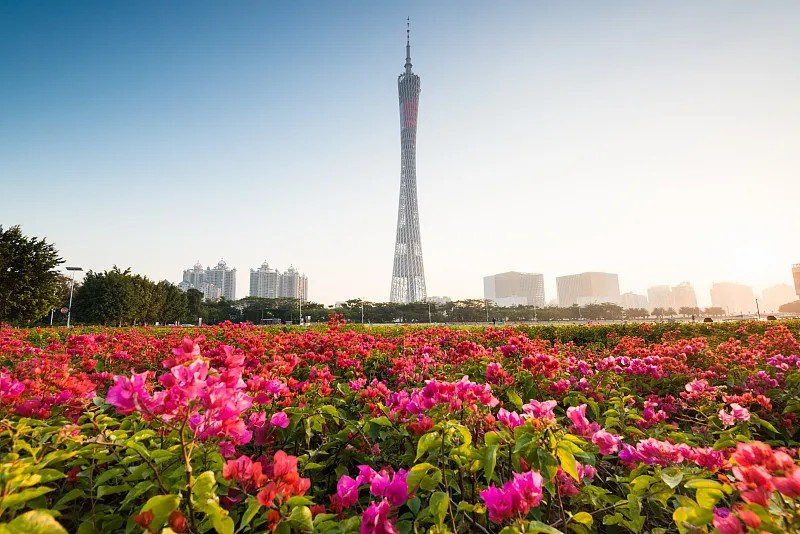Canton: (388, 15, 428, 304)
